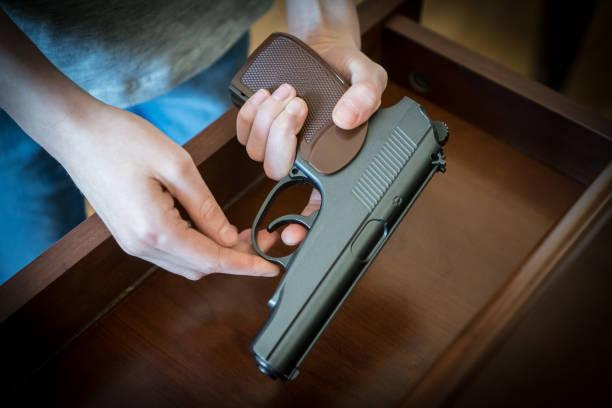weapon: (225, 22, 450, 388)
